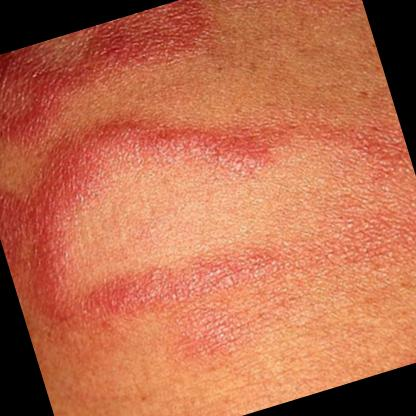Leprosy: (0, 39, 416, 403), (0, 0, 259, 153)
